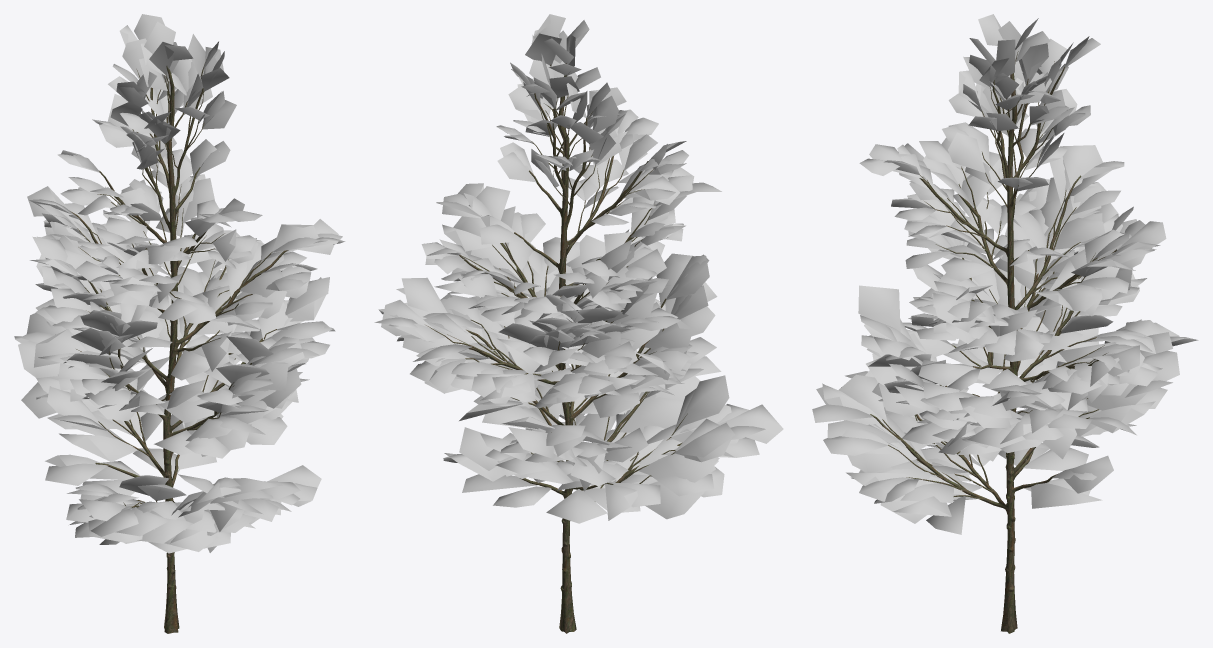
Rendered from Tree_Sm_07_1_L0.fbx.
3 renders of one model, left to right at view 1: azimuth 30°, elevation 25°; view 2: azimuth 150°, elevation 25°; view 3: azimuth 270°, elevation 25°, orthographic. The views are drawn at different scales.
Visible parts, largest first — view 1: polySurface32; view 2: polySurface32; view 3: polySurface32.
Boxes of the visible parts, left/top/right/bottom form: polySurface32: left=14, top=14, right=345, bottom=633; polySurface32: left=374, top=14, right=783, bottom=633; polySurface32: left=812, top=14, right=1198, bottom=633.
Bounding box in the file's own units: 352 × 662 × 379.
